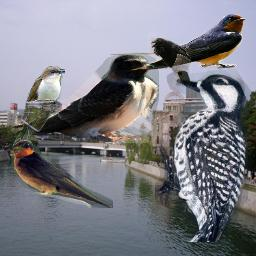Crow: (151, 38, 191, 87)
Cuckoo: (9, 65, 65, 156)
Swallow: (9, 54, 159, 143), (110, 12, 246, 71), (11, 136, 113, 208)
Woodpecker: (155, 68, 252, 242)
